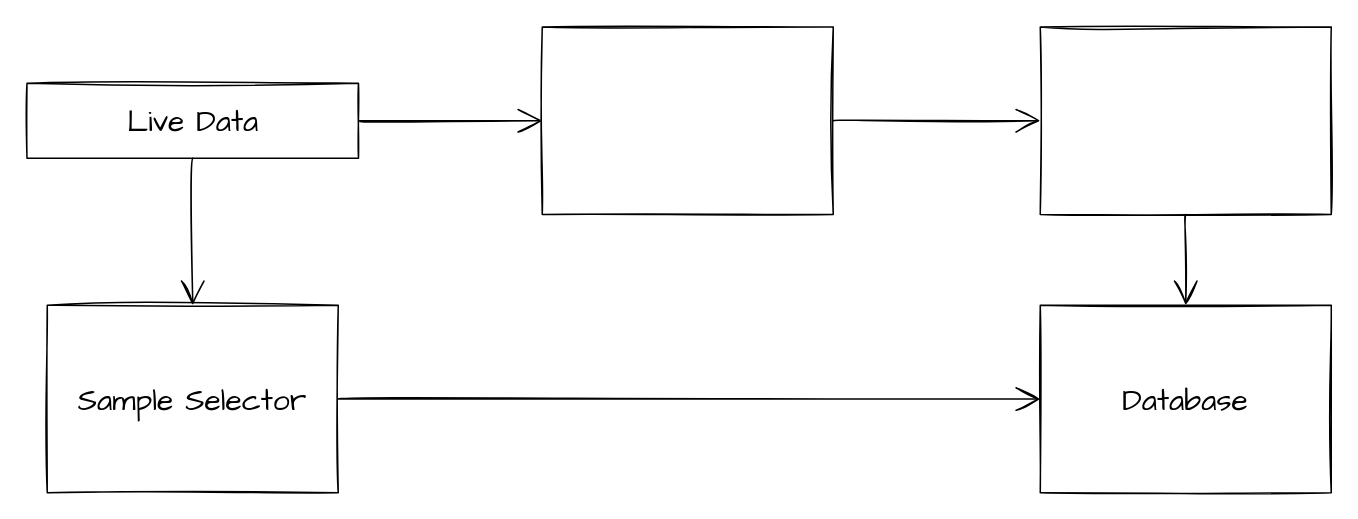
The diagram is 1358 pixels wide and 519 high, and some of its shapes have lost their labels. The centre of each missing label's shape, as x and y in pixels:
"Online Impact" belongs at point (1185, 120).
"Online Intelligent System" belongs at point (687, 120).
